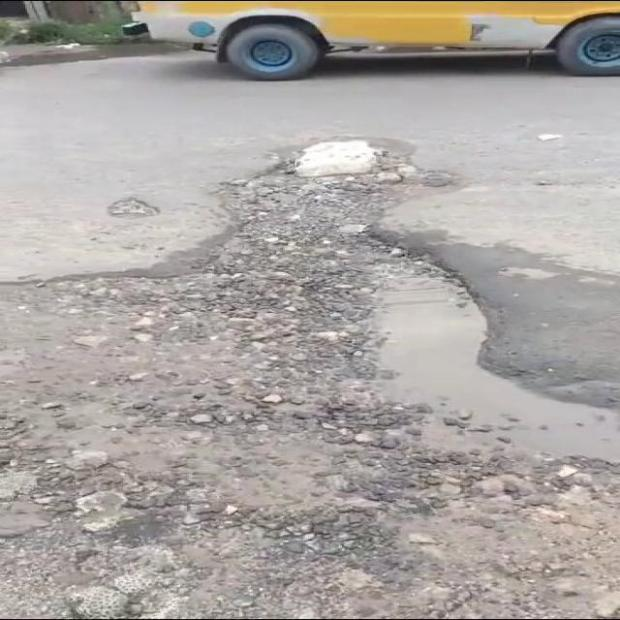lubang: (4, 172, 619, 615), (108, 197, 158, 216)
